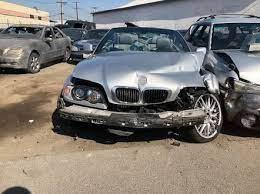bonnet-dent: (75, 54, 202, 93)
front-bumper-dent: (60, 87, 210, 129)
